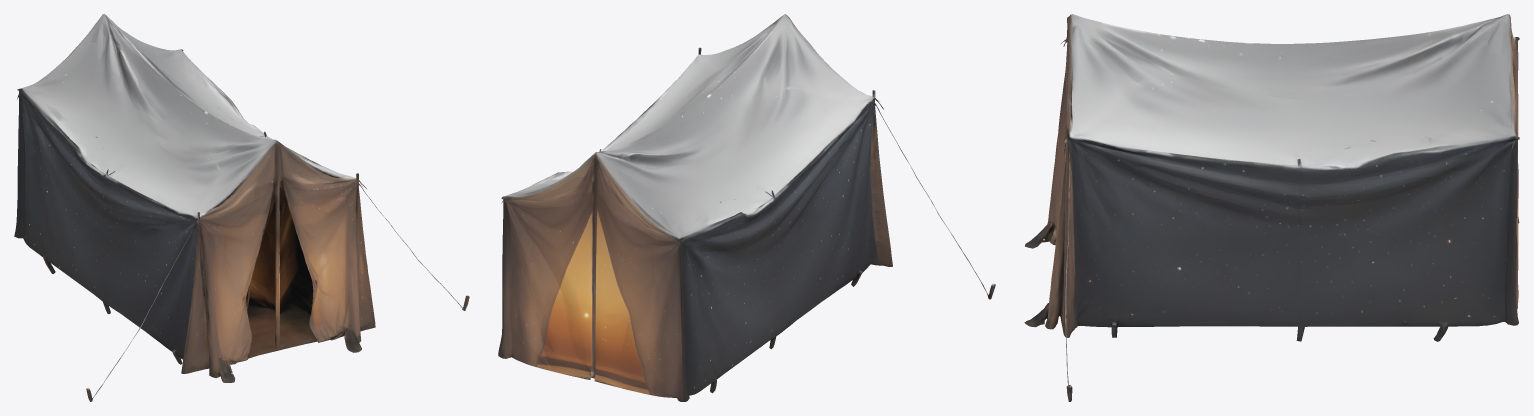
The model's file is tent_basic_shaded.glb.
3 views of the same model, side by side, from view 1: azimuth 30°, elevation 25°; view 2: azimuth 150°, elevation 25°; view 3: azimuth 270°, elevation 25° (orthographic). The views are drawn at different scales.
Visible parts, largest first — view 1: tent_basic; view 2: tent_basic; view 3: tent_basic.
Part boxes in pixels (x1,y1,x2,y2): tent_basic: [14, 14, 469, 401]; tent_basic: [498, 14, 995, 401]; tent_basic: [1024, 14, 1519, 401].
Bounding box in the file's own units: 1.83 × 1.01 × 1.62.
Materials: 1 (1 with a texture image).
